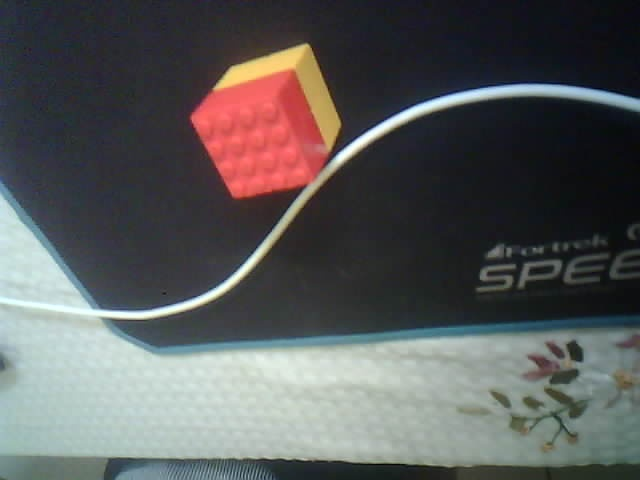lego: (187, 43, 343, 200)
